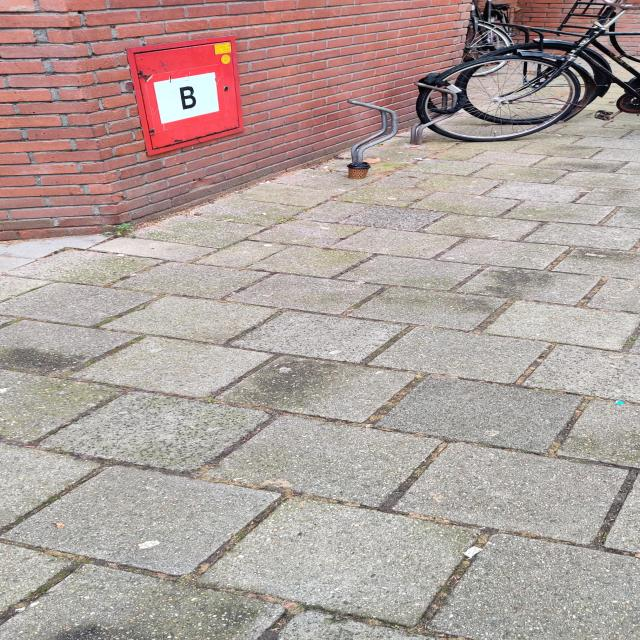litter: (342, 99, 410, 160)
